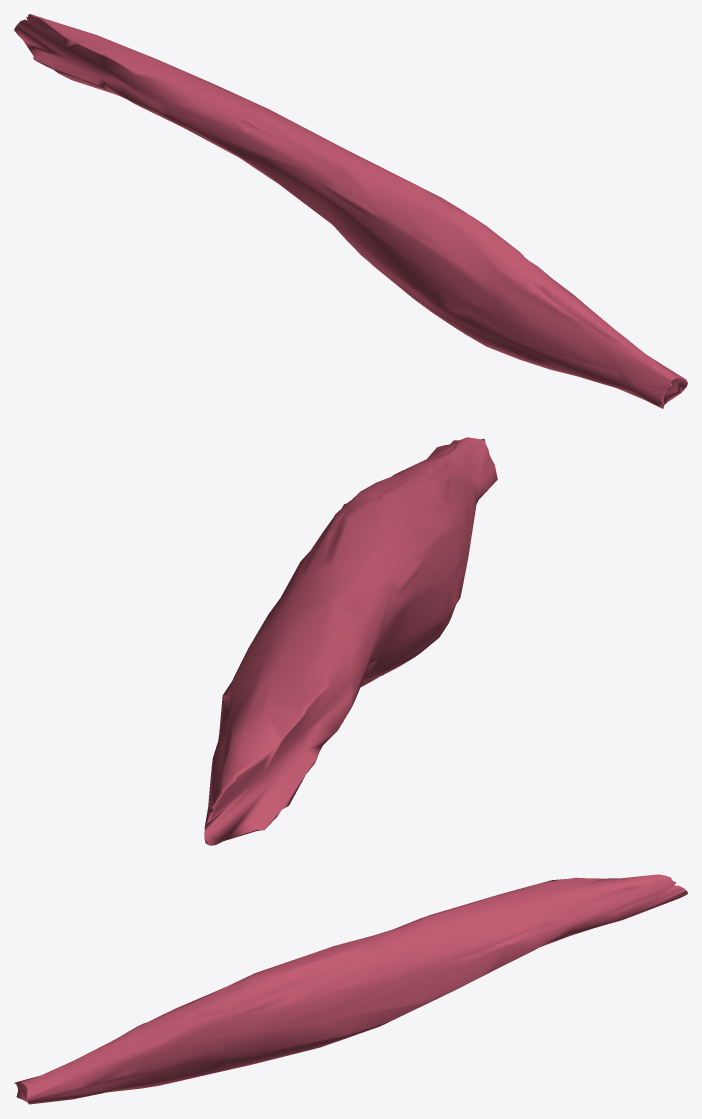
The picture shows the model from 3 angles, top to bottom: view 1: azimuth 30°, elevation 25°; view 2: azimuth 150°, elevation 25°; view 3: azimuth 270°, elevation 25°; orthographic projection. The views are drawn at different scales.
Visible parts, largest first — view 1: 右侧喙肱肌; view 2: 右侧喙肱肌; view 3: 右侧喙肱肌.
Part boxes in pixels (box(x1,y1,x2,y2)): 右侧喙肱肌: box(14, 14, 687, 408); 右侧喙肱肌: box(204, 437, 497, 845); 右侧喙肱肌: box(14, 874, 687, 1104).
Bounding box in the file's own units: 0.0896 × 0.0516 × 0.2339.
